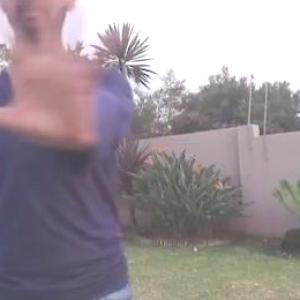follow_hand: (0, 0, 127, 153)
